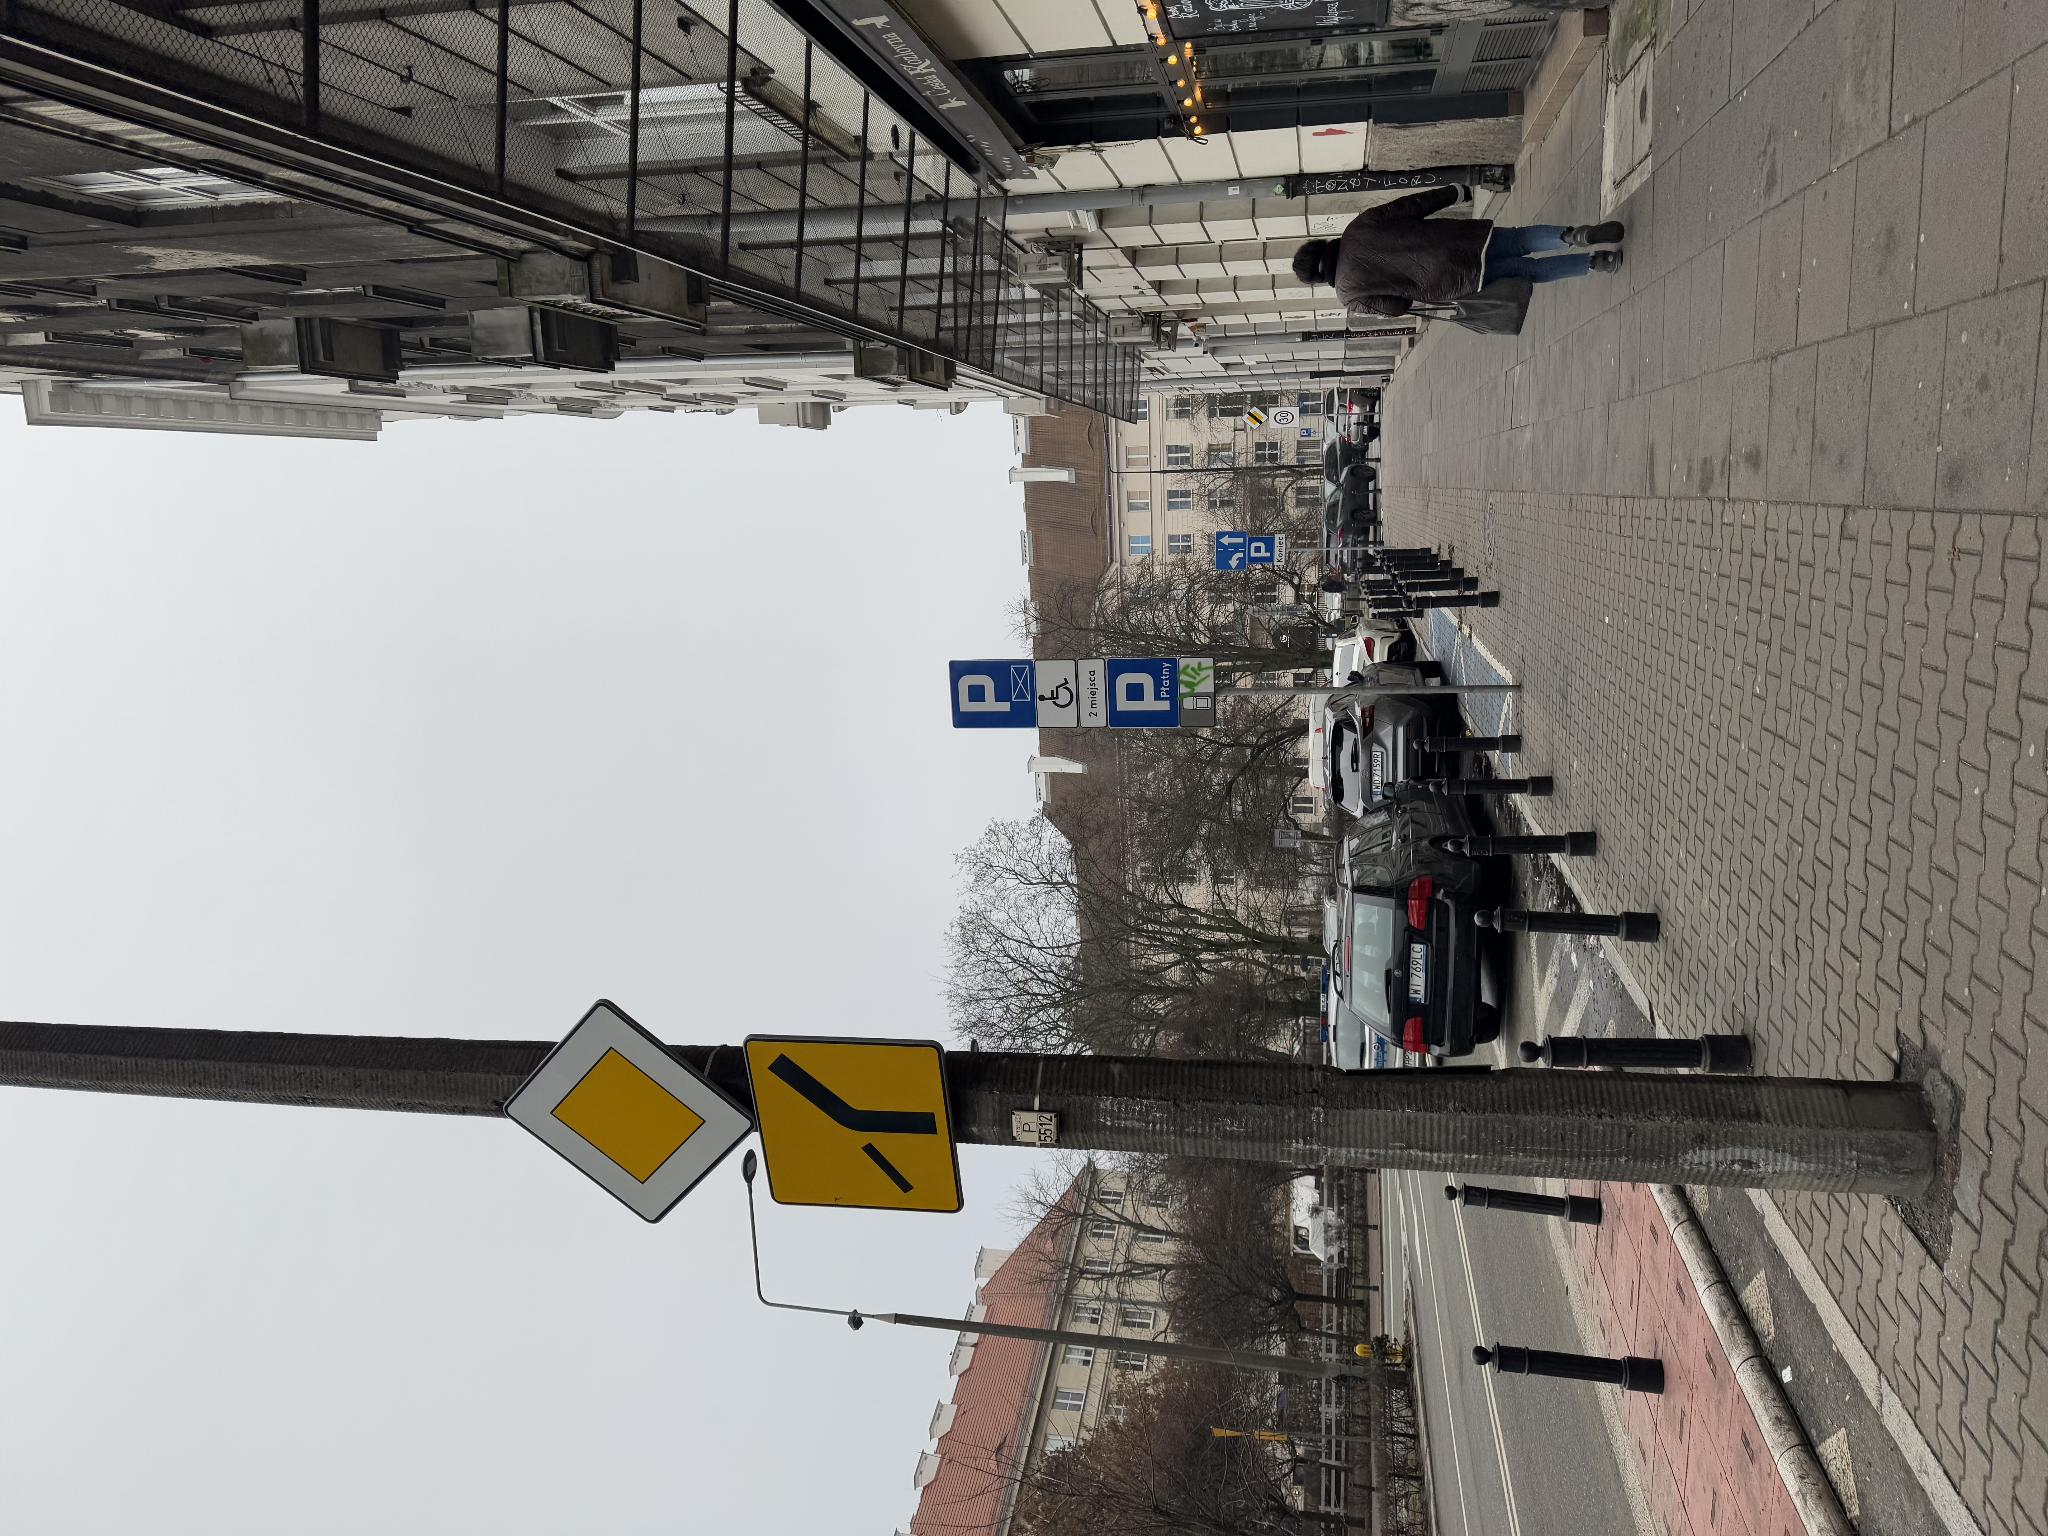information: (311, 502, 540, 757), (806, 947, 877, 1036), (806, 1107, 880, 1179), (966, 1215, 1006, 1247), (972, 1247, 1000, 1275), (1106, 1241, 1129, 1268), (1100, 1300, 1106, 1312)
other: (319, 741, 503, 963), (808, 1034, 877, 1079), (808, 1178, 882, 1215), (808, 1079, 879, 1107), (971, 1275, 1003, 1284)
prohibitory: (1111, 1273, 1126, 1294)
